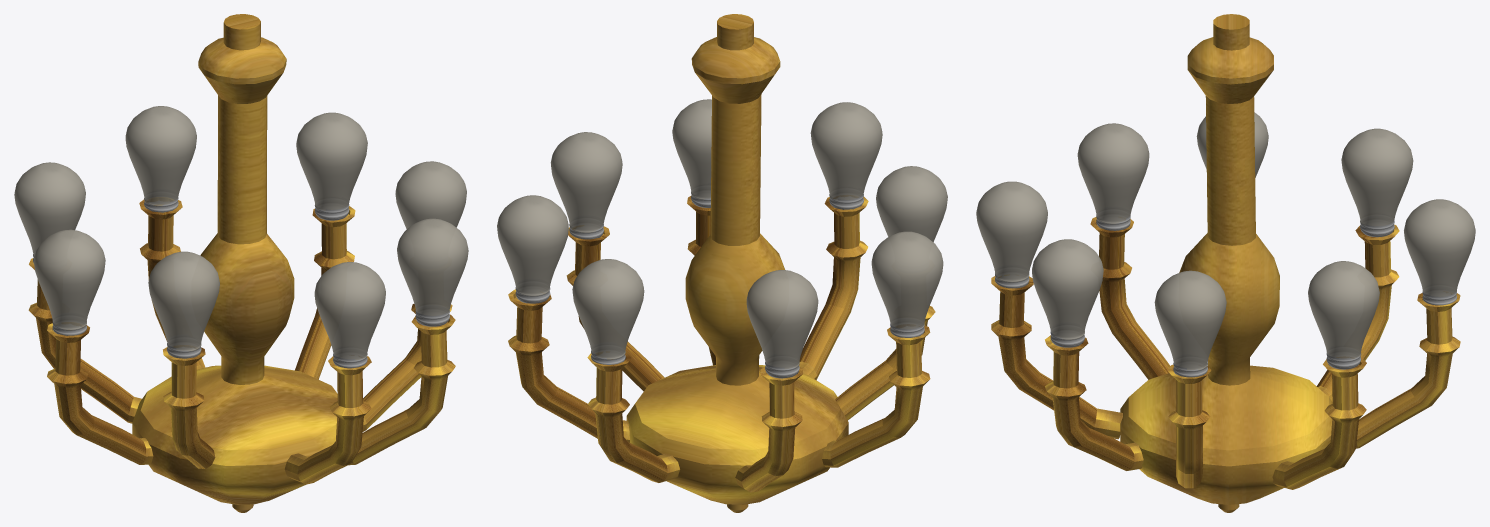
File: chanderlier.fbx
3 views of the same model, side by side, from view 1: azimuth 30°, elevation 25°; view 2: azimuth 150°, elevation 25°; view 3: azimuth 270°, elevation 25° (orthographic).
Parts seen in each view (by area): view 1: polySurface1, polySurface12, polySurface8, polySurface6, polySurface14, pCylinder13, polySurface4, polySurface2, polySurface10; view 2: polySurface1, polySurface12, polySurface2, pCylinder13, polySurface10, polySurface4, polySurface14, polySurface6, polySurface8; view 3: polySurface1, polySurface8, polySurface2, polySurface12, polySurface6, pCylinder13, polySurface10, polySurface14, polySurface4.
Boxes of the visible parts, <box> form: polySurface1: <box>28,14,455,512</box>; polySurface12: <box>296,112,367,220</box>; polySurface8: <box>397,218,468,326</box>; polySurface6: <box>148,251,219,358</box>; polySurface14: <box>125,106,196,212</box>; pCylinder13: <box>314,262,385,368</box>; polySurface4: <box>34,229,105,335</box>; polySurface2: <box>14,162,85,263</box>; polySurface10: <box>395,161,466,228</box>; polySurface1: <box>508,14,935,512</box>; polySurface12: <box>497,195,568,303</box>; polySurface2: <box>746,270,818,378</box>; pCylinder13: <box>810,102,882,209</box>; polySurface10: <box>550,132,622,239</box>; polySurface4: <box>871,231,943,337</box>; polySurface14: <box>572,259,644,364</box>; polySurface6: <box>876,166,947,242</box>; polySurface8: <box>672,99,711,207</box>; polySurface1: <box>991,14,1460,512</box>; polySurface8: <box>1032,239,1103,347</box>; polySurface2: <box>1341,128,1413,237</box>; polySurface12: <box>1308,261,1379,369</box>; polySurface6: <box>1077,123,1149,230</box>; pCylinder13: <box>976,181,1047,288</box>; polySurface10: <box>1154,270,1226,377</box>; polySurface14: <box>1404,199,1475,305</box>; polySurface4: <box>1196,112,1268,177</box>.
Size of the model in its own units: 4.18 by 4.84 by 4.48.
3 materials, 1 textured.
